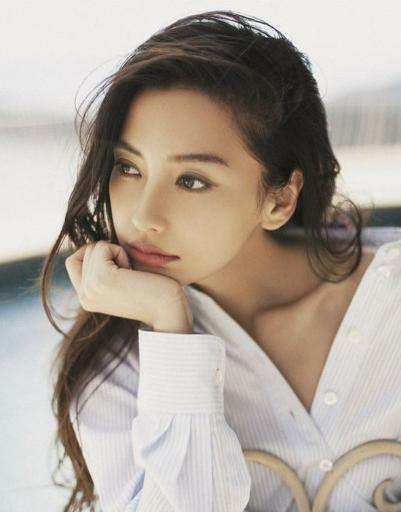left_eye: (174, 174, 218, 197)
left_lip_corner: (170, 253, 184, 267)
right_eye: (117, 164, 144, 183)
